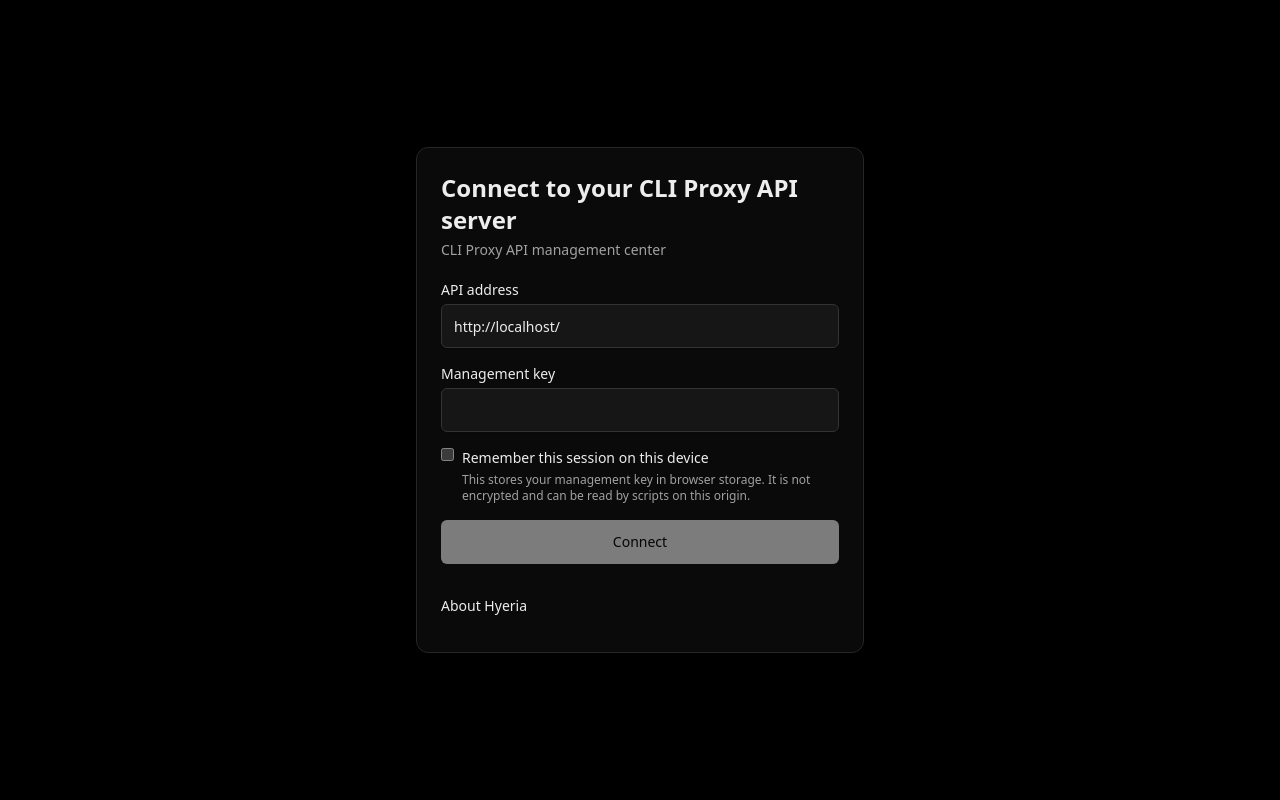
Test: protected routing › opens the legal notice with the canonical source link from the login page
The width and height of the screenshot is (1280, 800).
Click the button "About Hyeria".
click(484, 606)  # box [441,584,527,628]
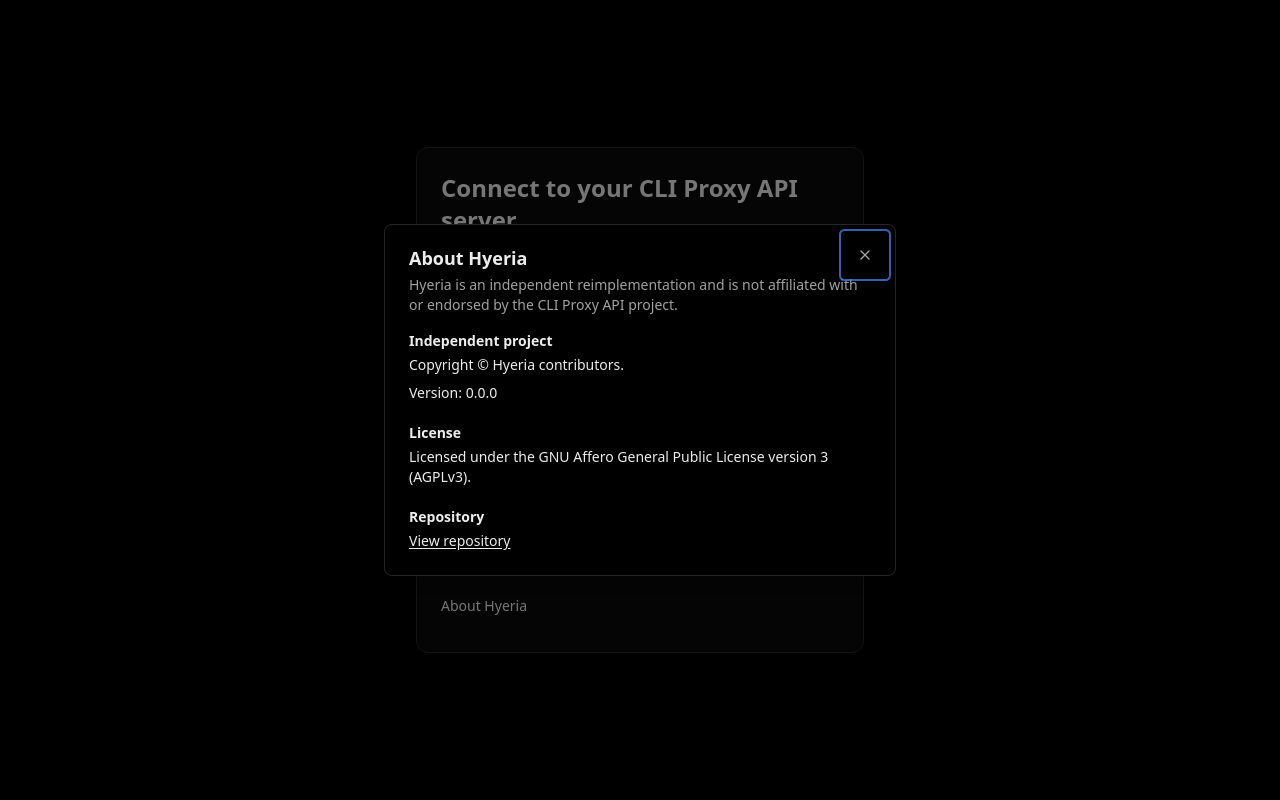
Expected: the dialog shows "AGPLv3", [409,447,828,486]
Expected: the link to "https://github.com/teppyboy/hyeria" is shown, [409,531,510,550]
